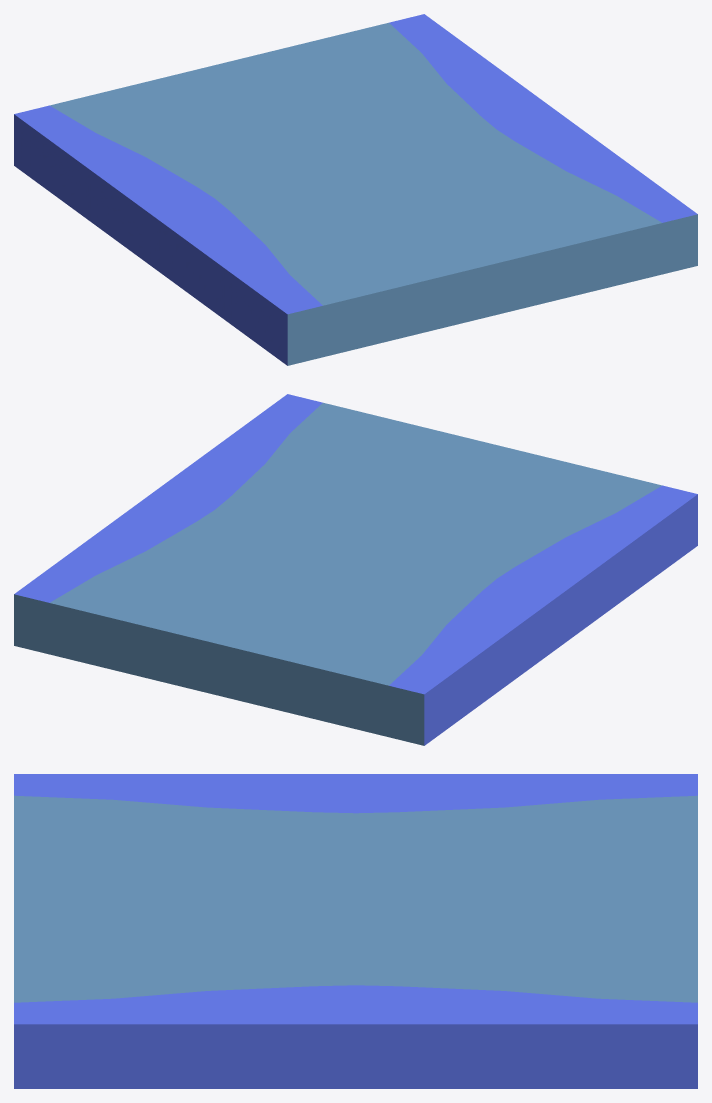
File: Platform B.fbx
The picture shows the model from 3 angles, top to bottom: view 1: azimuth 30°, elevation 25°; view 2: azimuth 150°, elevation 25°; view 3: azimuth 270°, elevation 25°; orthographic projection. The views are drawn at different scales.
Visible parts, largest first — view 1: Platform B.001; view 2: Platform B.001; view 3: Platform B.001.
Boxes of the visible parts, x1,y1,x2,y2 form: Platform B.001: (14, 14, 697, 365); Platform B.001: (14, 394, 697, 745); Platform B.001: (14, 774, 697, 1088).
Bounding box in the file's own units: 4.78 × 0.5743 × 5.52.
